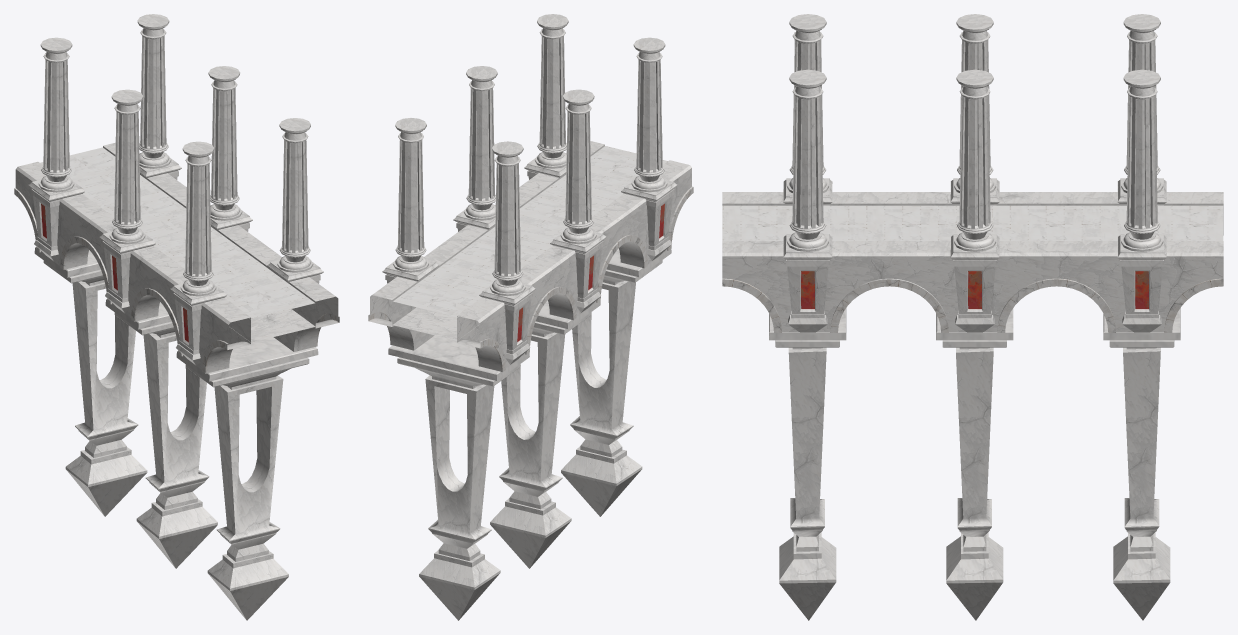
File: BgMD_Ruins_StraightBridge.fbx
3 views of the same model, side by side, from view 1: azimuth 30°, elevation 25°; view 2: azimuth 150°, elevation 25°; view 3: azimuth 270°, elevation 25° (orthographic). The views are drawn at different scales.
Parts seen in each view (by area): view 1: SM_Ruins_bridge, SM_Ruins_deco_U1, SM_Ruins_deco_U2, SM_Ruins_deco_U3, SM_Ruins_deco_T6, SM_Ruins_deco_T3, SM_Ruins_deco_T1, SM_Ruins_deco_T5, SM_Ruins_deco_T4, SM_Ruins_deco_T2, SM_Ruins_deco_S2, SM_Ruins_deco_S1 (+2 smaller); view 2: SM_Ruins_bridge, SM_Ruins_deco_U3, SM_Ruins_deco_U1, SM_Ruins_deco_U2, SM_Ruins_deco_T2, SM_Ruins_deco_T3, SM_Ruins_deco_T5, SM_Ruins_deco_T1, SM_Ruins_deco_T6, SM_Ruins_deco_T4, SM_Ruins_deco_S2, SM_Ruins_deco_S3 (+2 smaller); view 3: SM_Ruins_bridge, SM_Ruins_deco_U3, SM_Ruins_deco_U1, SM_Ruins_deco_U2, SM_Ruins_deco_T6, SM_Ruins_deco_T4, SM_Ruins_deco_T2, SM_Ruins_deco_S4, SM_Ruins_deco_S5, SM_Ruins_deco_S6, SM_Ruins_deco_T5, SM_Ruins_deco_T3 (+1 smaller).
Boxes of the visible parts, left/top/right/bottom form: SM_Ruins_bridge: left=14, top=142, right=339, bottom=373; SM_Ruins_deco_U1: left=176, top=337, right=318, bottom=620; SM_Ruins_deco_U2: left=105, top=299, right=217, bottom=568; SM_Ruins_deco_U3: left=34, top=247, right=147, bottom=516; SM_Ruins_deco_T6: left=277, top=118, right=313, bottom=272; SM_Ruins_deco_T3: left=109, top=89, right=145, bottom=244; SM_Ruins_deco_T1: left=38, top=37, right=74, bottom=192; SM_Ruins_deco_T5: left=180, top=141, right=216, bottom=296; SM_Ruins_deco_T4: left=208, top=66, right=242, bottom=220; SM_Ruins_deco_T2: left=137, top=14, right=171, bottom=168; SM_Ruins_deco_S2: left=99, top=232, right=155, bottom=312; SM_Ruins_deco_S1: left=28, top=180, right=84, bottom=260; SM_Ruins_bridge: left=368, top=141, right=693, bottom=371; SM_Ruins_deco_U3: left=388, top=335, right=529, bottom=620; SM_Ruins_deco_U1: left=561, top=248, right=671, bottom=516; SM_Ruins_deco_U2: left=490, top=300, right=600, bottom=568; SM_Ruins_deco_T2: left=393, top=118, right=428, bottom=272; SM_Ruins_deco_T3: left=560, top=89, right=596, bottom=244; SM_Ruins_deco_T5: left=631, top=37, right=667, bottom=192; SM_Ruins_deco_T1: left=490, top=141, right=525, bottom=296; SM_Ruins_deco_T6: left=535, top=14, right=568, bottom=168; SM_Ruins_deco_T4: left=464, top=66, right=497, bottom=220; SM_Ruins_deco_S2: left=550, top=231, right=606, bottom=312; SM_Ruins_deco_S3: left=621, top=179, right=677, bottom=260; SM_Ruins_bridge: left=722, top=192, right=1223, bottom=332; SM_Ruins_deco_U3: left=1103, top=308, right=1180, bottom=620; SM_Ruins_deco_U1: left=769, top=308, right=846, bottom=620; SM_Ruins_deco_U2: left=936, top=308, right=1013, bottom=620; SM_Ruins_deco_T6: left=787, top=69, right=828, bottom=251; SM_Ruins_deco_T4: left=954, top=69, right=995, bottom=251; SM_Ruins_deco_T2: left=1121, top=69, right=1163, bottom=251; SM_Ruins_deco_S4: left=1117, top=234, right=1166, bottom=332; SM_Ruins_deco_S5: left=950, top=234, right=999, bottom=332; SM_Ruins_deco_S6: left=783, top=234, right=832, bottom=332; SM_Ruins_deco_T5: left=787, top=14, right=828, bottom=192; SM_Ruins_deco_T3: left=954, top=14, right=995, bottom=193.
Size of the model in its own units: 754 by 2628 by 2092.
